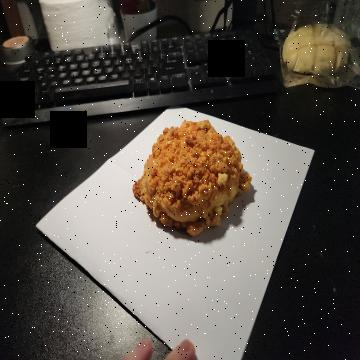soboru_bread: (132, 118, 250, 237)
